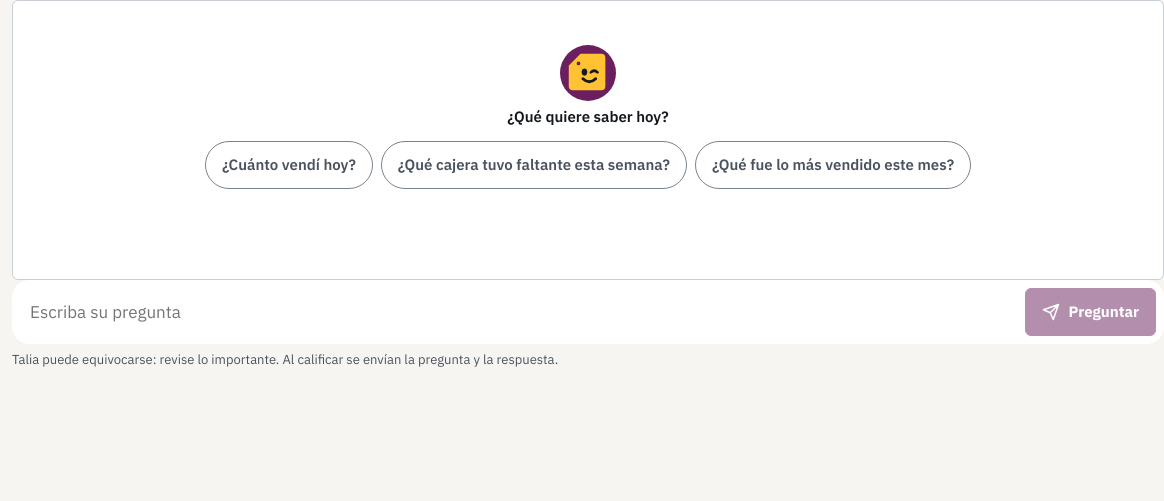
it: TK-340: the card shows the server's summary, the time left and real Confirmar / Cancelar buttons
Click the button "¿Cuánto vendí hoy?" at (289, 164), box x1=205 y1=140 x2=373 y2=188
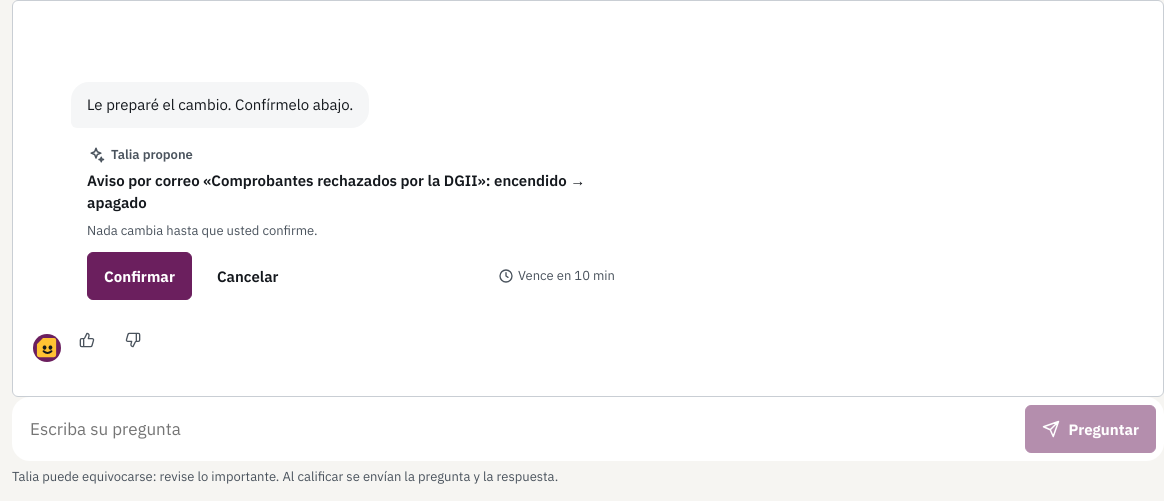
Expected: the element that starts with "Talia propone" shows "Aviso por correo «Comprobantes rechazados por la DGII»: encendido → apagado", x1=87 y1=171 x2=585 y2=212
Expected: the element that starts with "Talia propone" shows "Vence en 10 min", x1=518 y1=267 x2=615 y2=284
Expected: the heading "Talia propone" is shown, x1=87 y1=146 x2=193 y2=164
